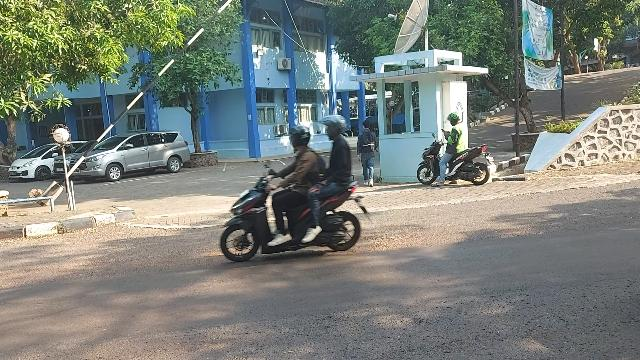helm: (320, 116, 348, 138), (290, 127, 311, 150), (447, 114, 460, 126)
motor: (222, 163, 372, 264), (418, 134, 496, 186)
